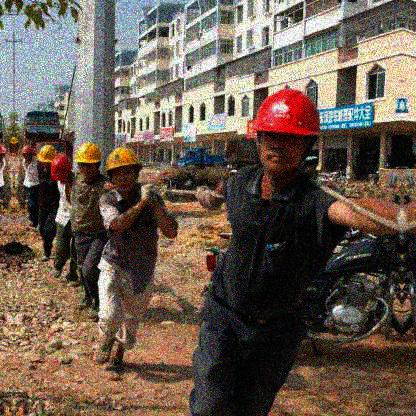helmet: (251, 88, 321, 176), (105, 146, 144, 192), (75, 141, 102, 181), (38, 145, 58, 170), (22, 145, 32, 162)
